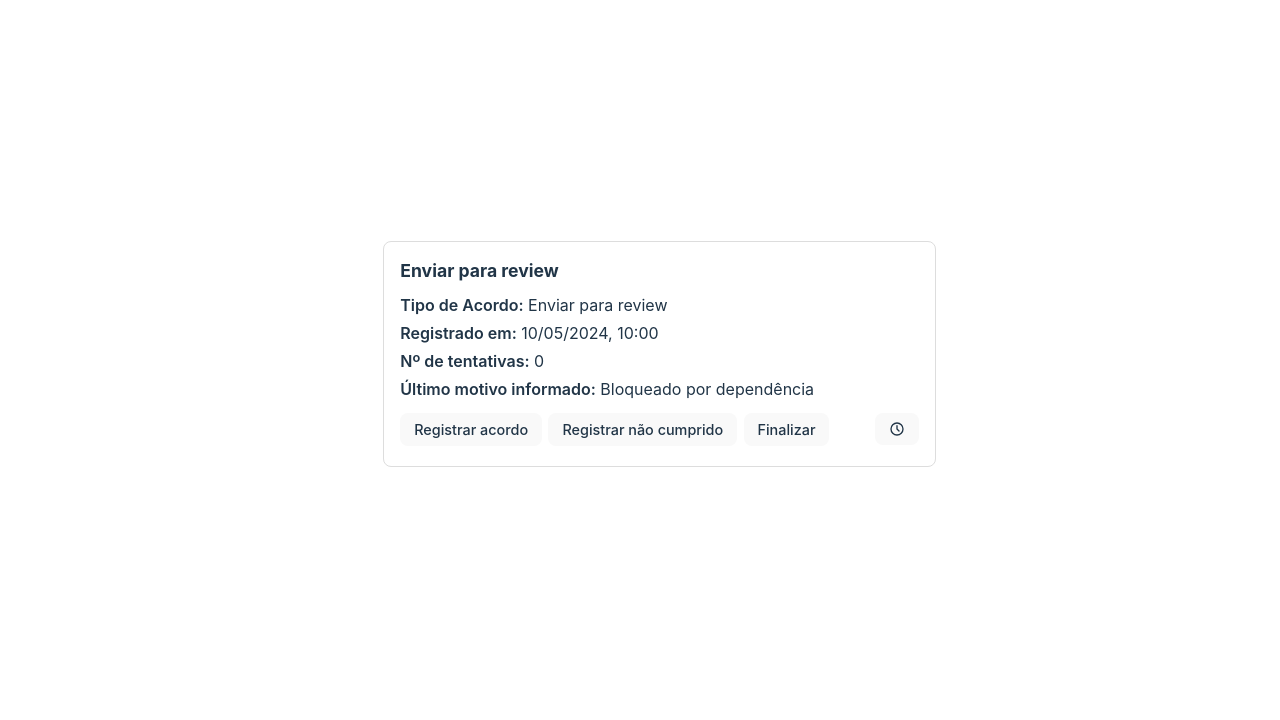
it: TaskCard › abre o Modal_de_Motivo de "Marcar como não cumprido" com o Ultimo_Motivo_Informado pré-selecionado
Click the button with test id "task-card-marcar-nao-cumprido" at (643, 429), box [548, 412, 737, 446]
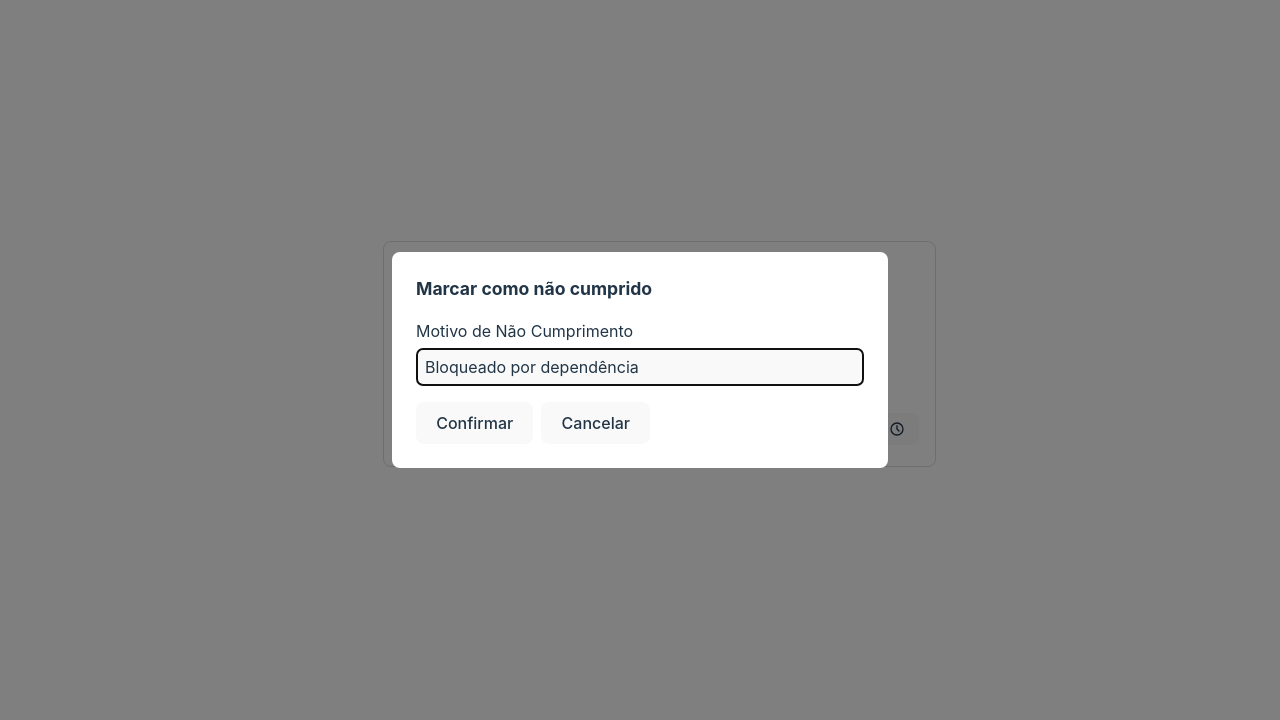
Check: the field with test id "motivo-modal-combobox" holds "Bloqueado por dependência", box [416, 348, 864, 386]
